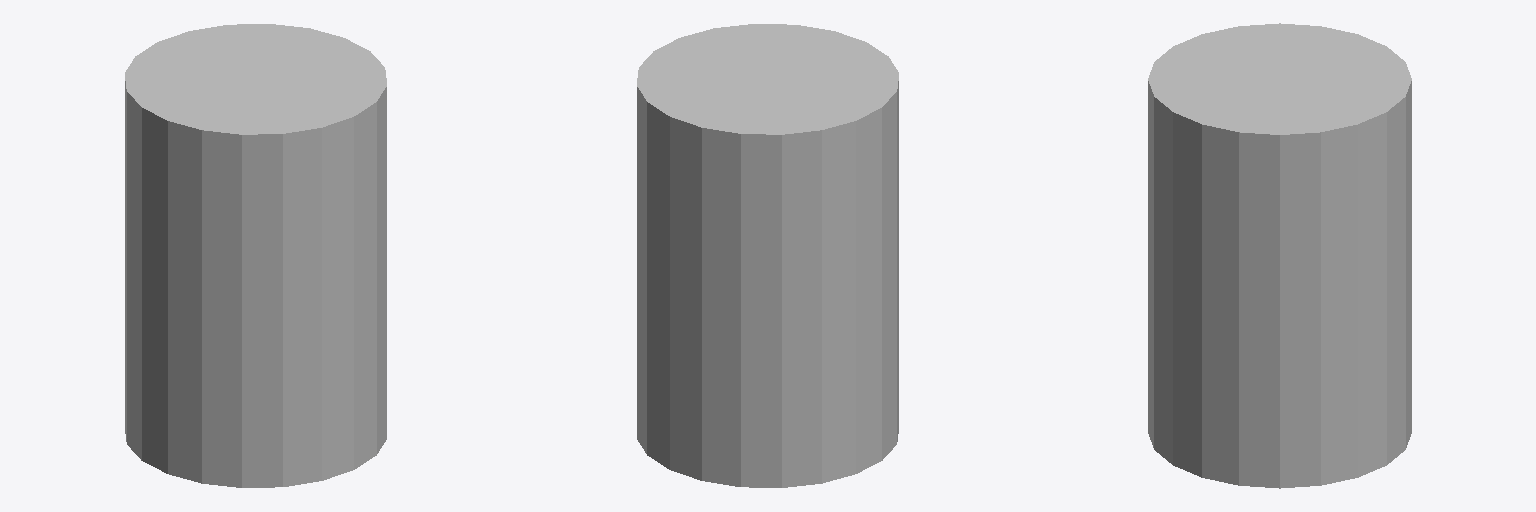
The model's file is SpeedUpgradeC2.obj.
3 views of the same model, side by side, from view 1: azimuth 30°, elevation 25°; view 2: azimuth 150°, elevation 25°; view 3: azimuth 270°, elevation 25° (orthographic).
Parts seen in each view (by area): view 1: pCylinder27 Speed_UpgradeC_Parts; view 2: pCylinder27 Speed_UpgradeC_Parts; view 3: pCylinder27 Speed_UpgradeC_Parts.
Boxes of the visible parts, x1,y1,x2,y2 form: pCylinder27 Speed_UpgradeC_Parts: [125, 24, 386, 487]; pCylinder27 Speed_UpgradeC_Parts: [637, 24, 898, 487]; pCylinder27 Speed_UpgradeC_Parts: [1148, 23, 1411, 488].
Bounding box in the file's own units: 0.1703 × 0.2512 × 0.1703.